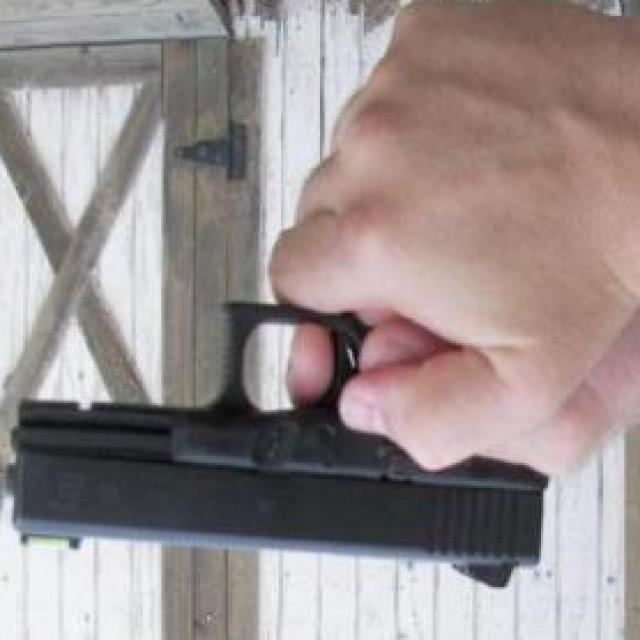pistol: (4, 300, 552, 594)
